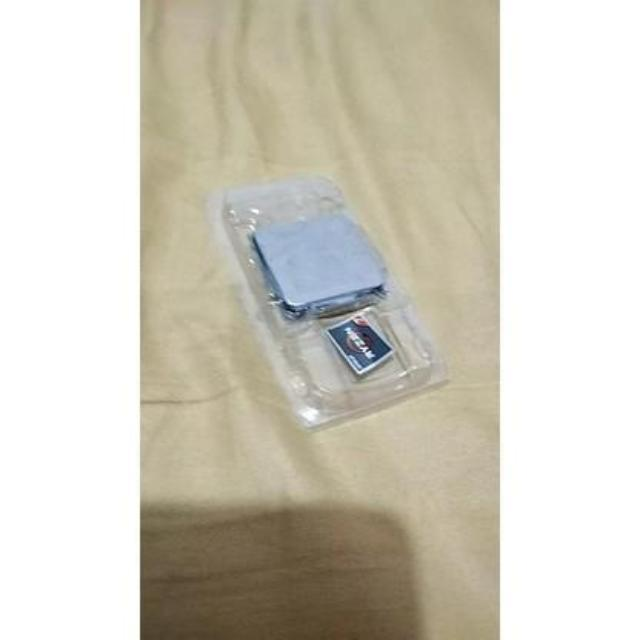CPU: (252, 213, 386, 305)
